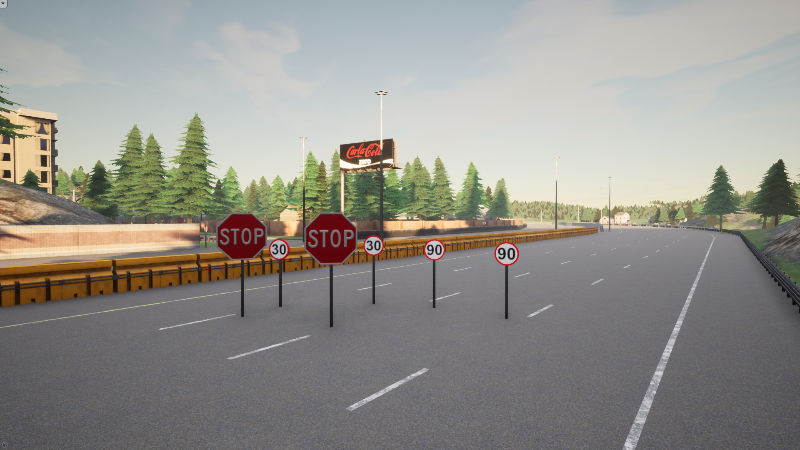fast: (494, 242, 520, 266), (423, 239, 446, 261)
slow: (269, 238, 290, 261), (363, 234, 384, 256)
stop: (304, 211, 358, 265), (216, 213, 267, 260)
